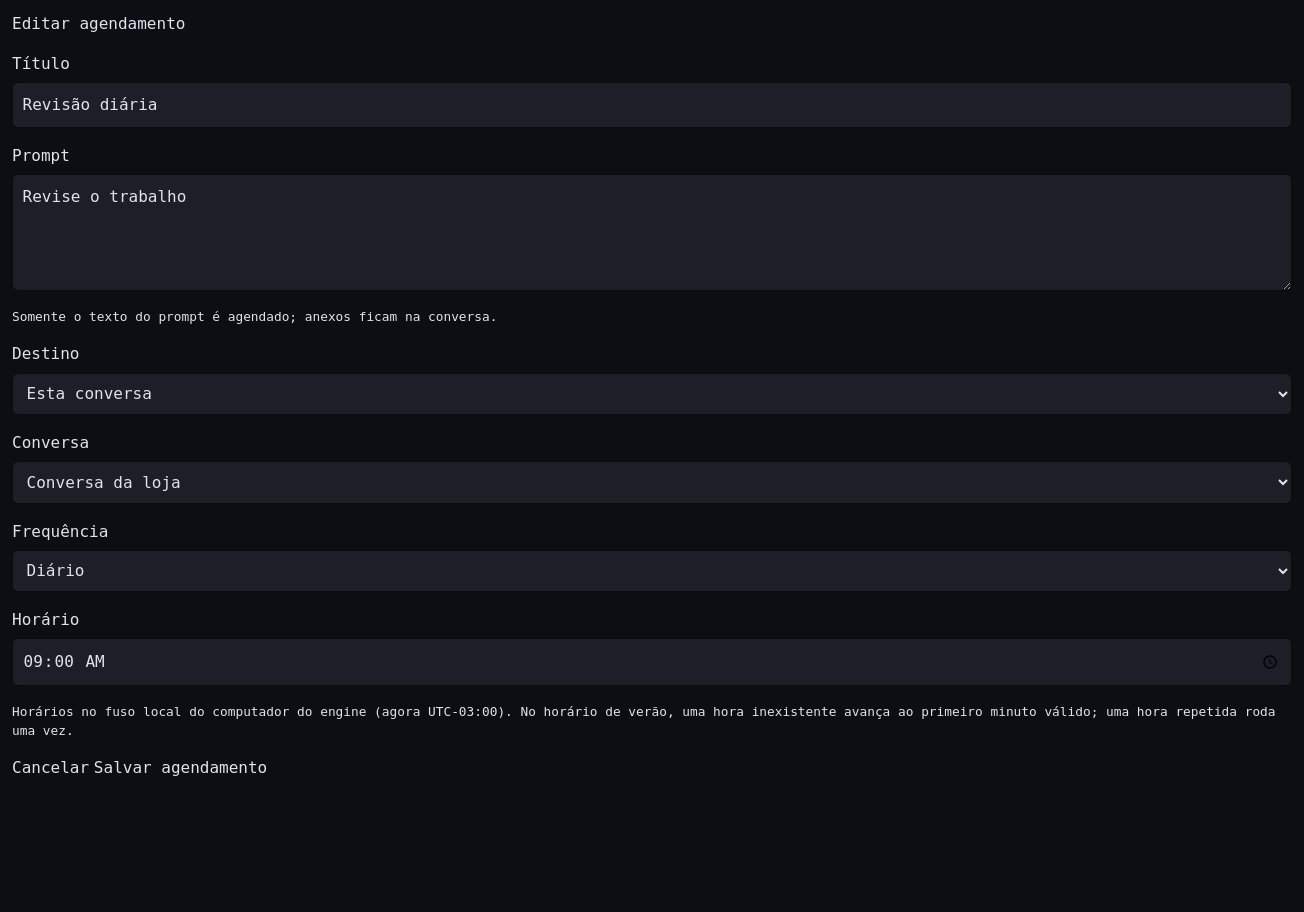
Scenario: mantém o formulário e apresenta falha de gravação
Click the button "Salvar agendamento". click: (181,768)
box: [94,756,267,780]
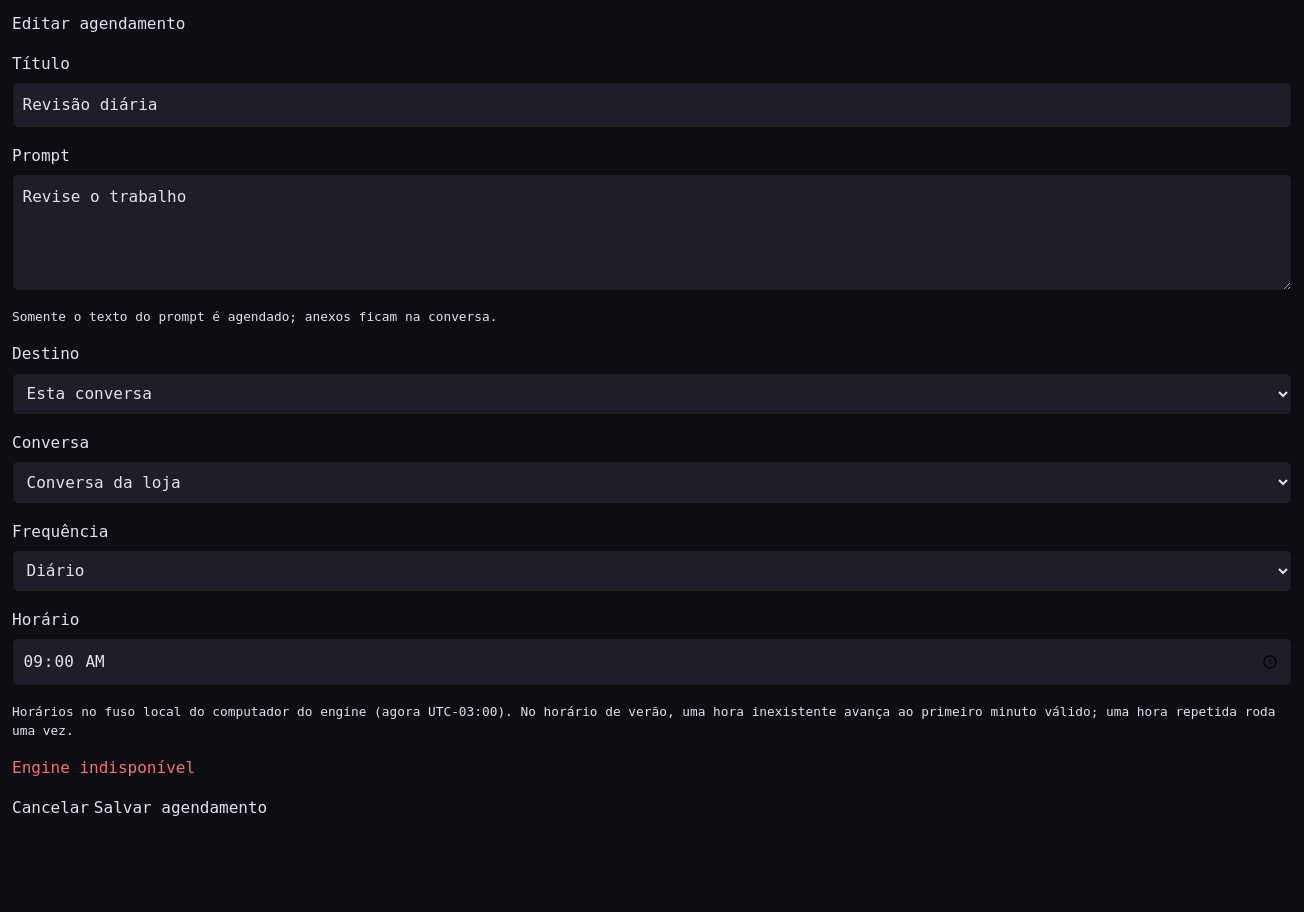
Expected: the text box labelled "Prompt" holds "Revise o trabalho", [12,174,1292,291]
Now the message reads "Engine indisponível", box [12,758,195,777]
